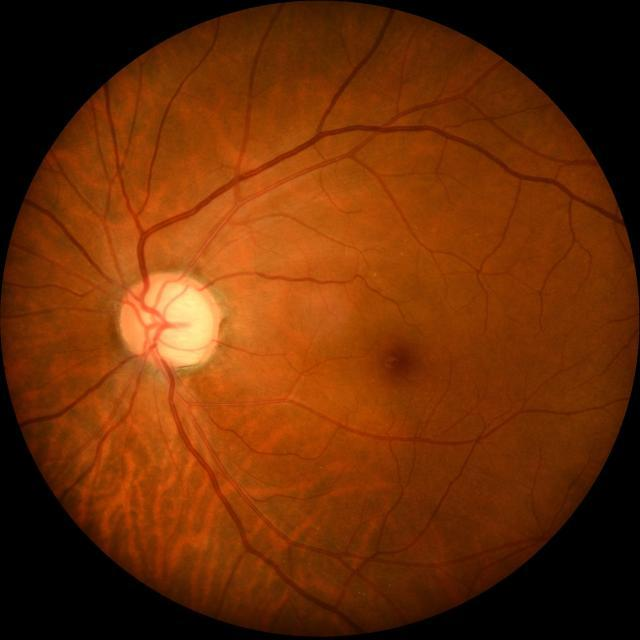OC: (142, 284, 212, 360)
OD: (118, 270, 220, 368)
